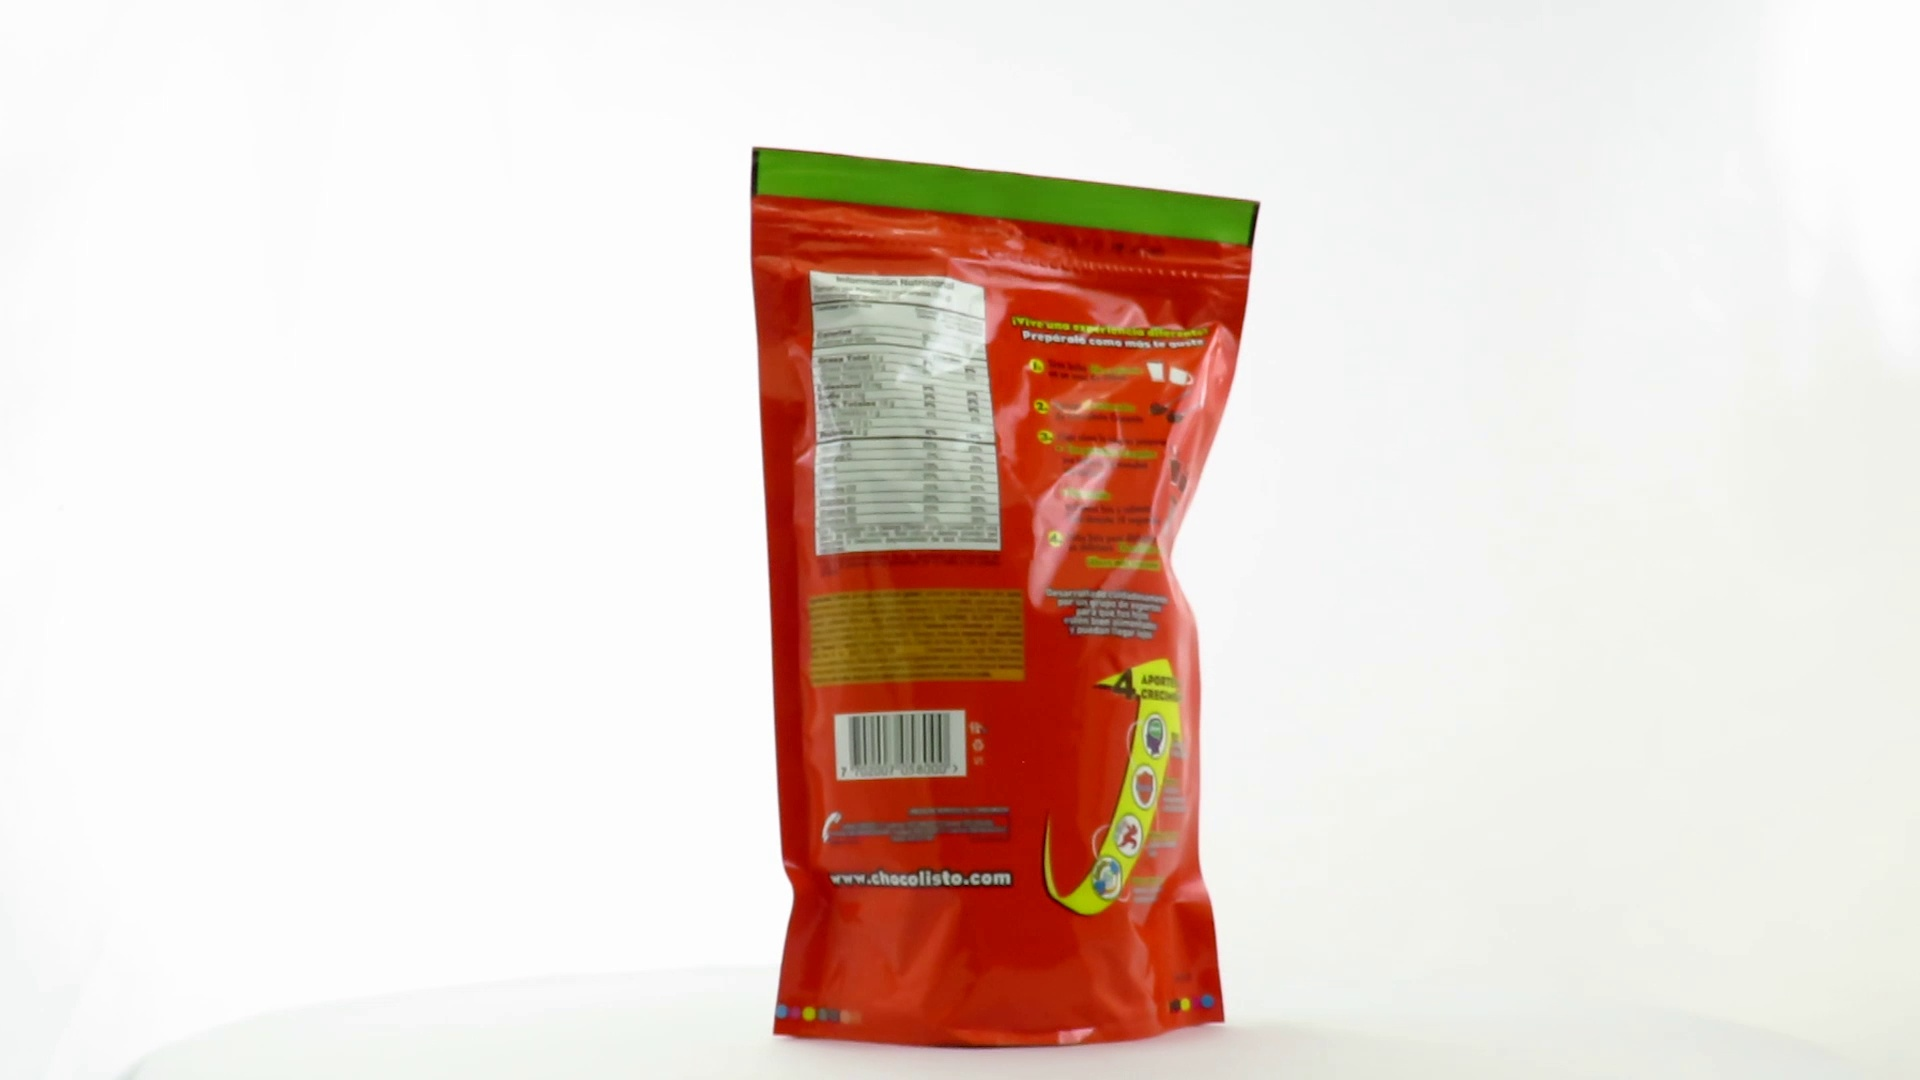COL0170102DYP50000: (745, 142, 1266, 1056)
